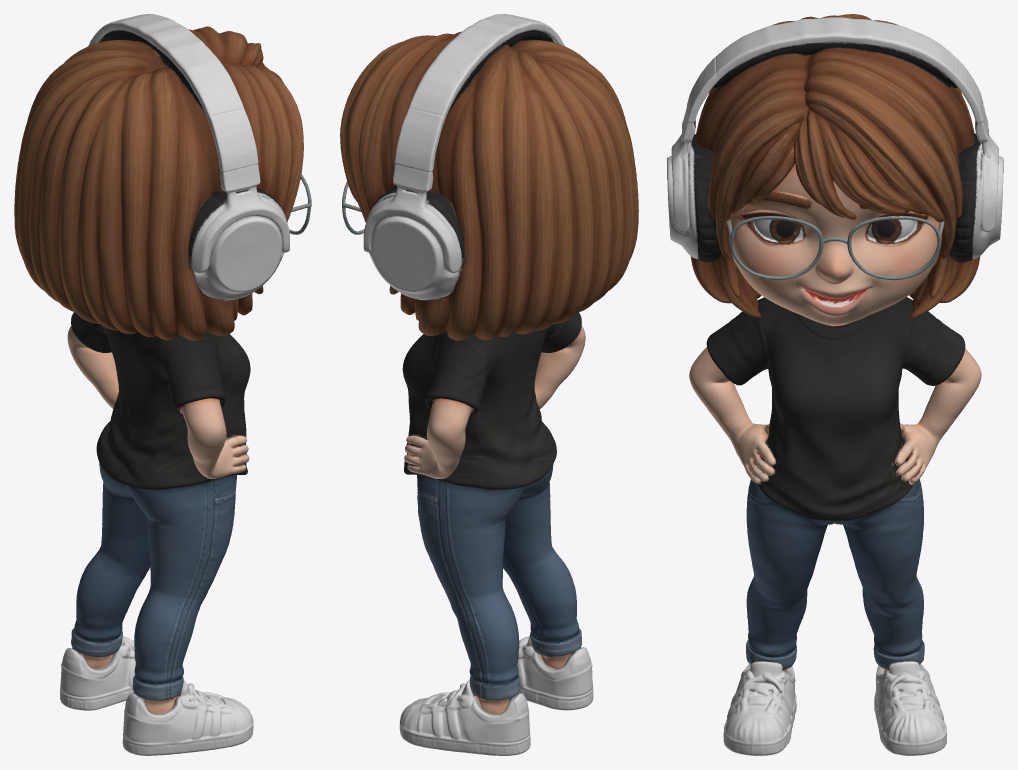
The model's file is female_character.glb.
3 views of the same model, side by side, from view 1: azimuth 30°, elevation 25°; view 2: azimuth 150°, elevation 25°; view 3: azimuth 270°, elevation 25° (orthographic). The views are drawn at different scales.
Visible parts, largest first — view 1: tripo_node_72cfdbe5-fdb1-467c-9e90-043bf04c8e1d; view 2: tripo_node_72cfdbe5-fdb1-467c-9e90-043bf04c8e1d; view 3: tripo_node_72cfdbe5-fdb1-467c-9e90-043bf04c8e1d.
Part boxes in pixels (left/top/right/bottom): tripo_node_72cfdbe5-fdb1-467c-9e90-043bf04c8e1d: left=14, top=14, right=311, bottom=755; tripo_node_72cfdbe5-fdb1-467c-9e90-043bf04c8e1d: left=340, top=14, right=638, bottom=755; tripo_node_72cfdbe5-fdb1-467c-9e90-043bf04c8e1d: left=667, top=14, right=1003, bottom=755.
Bounding box in the file's own units: 0.3781 × 1 × 0.4279.
1 material, 1 textured.
